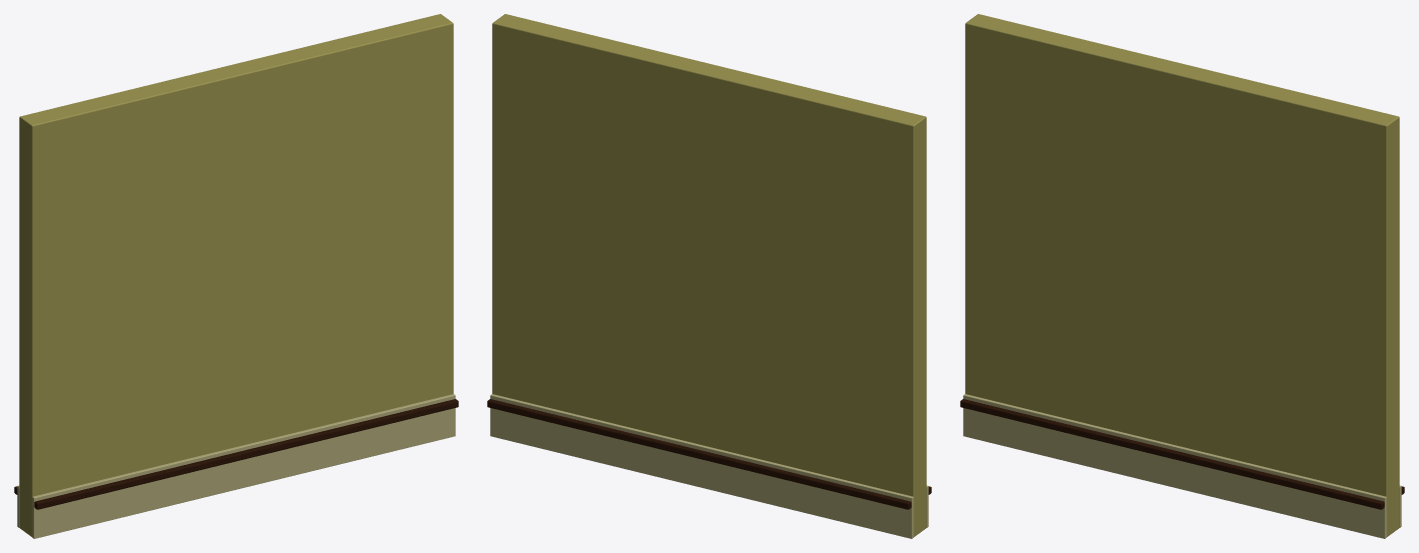
The model's file is plain_wall_wood_trim.glb.
3 views of the same model, side by side, from view 1: azimuth 30°, elevation 25°; view 2: azimuth 150°, elevation 25°; view 3: azimuth 330°, elevation 25° (orthographic).
Visible parts, largest first — view 1: WallBody, LowerWallPanelFront, WoodTrimRailFront; view 2: WallBody, LowerWallPanelBack, WoodTrimRailBack; view 3: WallBody, LowerWallPanelFront, WoodTrimRailFront.
Boxes of the visible parts, box(x1,y1,x2,y2) form: WallBody: box(19, 14, 453, 536); LowerWallPanelFront: box(32, 394, 455, 538); WoodTrimRailFront: box(34, 399, 458, 509); WallBody: box(492, 14, 926, 536); LowerWallPanelBack: box(490, 394, 913, 538); WoodTrimRailBack: box(487, 399, 911, 509); WallBody: box(965, 14, 1399, 536); LowerWallPanelFront: box(963, 394, 1386, 538); WoodTrimRailFront: box(960, 399, 1384, 509).
Size of what is drawn, in the model's own units: 3 by 2.8 by 0.288.
Materials: 3 (1 with a texture image).
